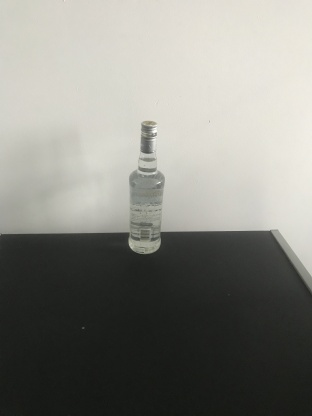nakretka: (139, 119, 158, 153)
